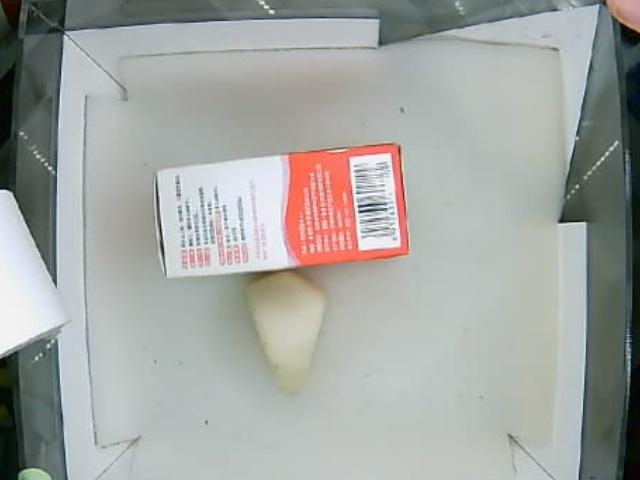Medicine: (156, 143, 412, 281)
Mooli: (248, 273, 330, 401)
